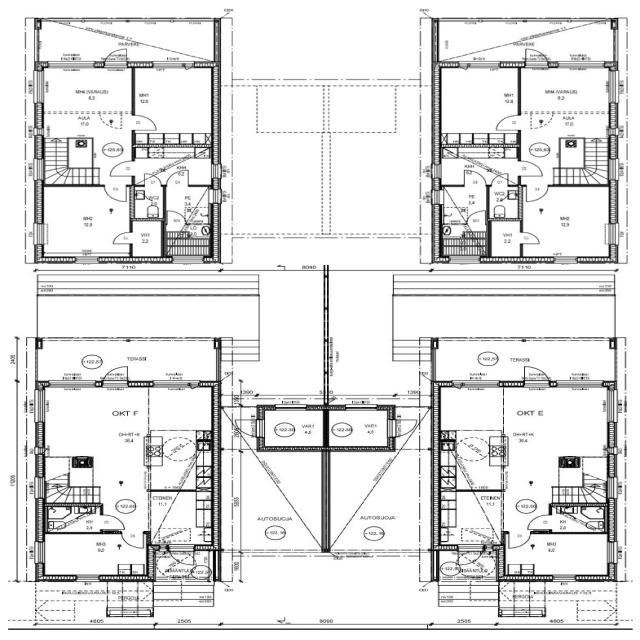door: (100, 218, 135, 248), (456, 545, 484, 568), (521, 46, 549, 68), (167, 544, 195, 566), (96, 512, 126, 532), (520, 364, 550, 384), (101, 47, 129, 68), (130, 112, 158, 132), (516, 158, 544, 178), (118, 530, 146, 550), (522, 183, 549, 203), (492, 114, 522, 132), (525, 512, 554, 530), (101, 366, 129, 384), (102, 184, 128, 203), (506, 530, 532, 549), (108, 159, 134, 177), (460, 170, 487, 187), (162, 171, 190, 187), (466, 208, 488, 226), (488, 170, 511, 187), (110, 230, 134, 246), (98, 113, 121, 129), (518, 230, 542, 245), (164, 208, 186, 224), (531, 114, 554, 129), (208, 189, 228, 204), (449, 380, 465, 390), (185, 380, 200, 390)
window: (30, 69, 46, 106), (551, 380, 606, 390), (44, 379, 98, 389), (31, 388, 46, 424), (603, 389, 618, 424), (605, 72, 619, 105), (554, 61, 605, 70), (45, 61, 99, 69), (149, 379, 197, 388), (603, 539, 619, 566), (604, 222, 620, 248), (445, 254, 483, 264), (458, 379, 500, 388), (32, 539, 46, 566), (152, 61, 189, 71), (32, 222, 46, 248), (30, 156, 44, 182), (170, 255, 205, 265), (70, 256, 103, 266), (338, 233, 379, 241), (274, 233, 312, 241), (605, 476, 618, 499), (465, 62, 501, 70), (609, 158, 621, 182), (343, 404, 377, 412), (550, 256, 580, 265), (548, 575, 579, 583), (272, 404, 307, 411), (208, 162, 221, 180), (431, 162, 444, 180), (72, 574, 101, 582), (428, 189, 442, 205), (33, 126, 44, 136)
zone: (39, 387, 170, 459), (485, 386, 613, 456), (36, 185, 134, 259), (520, 185, 614, 261), (133, 66, 214, 147), (436, 68, 519, 144), (504, 531, 612, 579), (38, 532, 148, 579), (39, 66, 133, 114), (144, 430, 212, 492), (517, 70, 611, 114), (438, 433, 505, 491), (146, 490, 213, 544), (438, 492, 504, 544), (436, 146, 520, 185), (130, 147, 213, 186), (436, 386, 502, 431), (326, 408, 393, 449), (130, 185, 202, 221), (260, 408, 324, 448), (555, 457, 608, 503), (41, 461, 96, 504), (164, 184, 211, 228), (39, 112, 112, 139), (440, 186, 488, 224), (43, 504, 102, 532), (550, 504, 606, 533), (164, 225, 212, 258), (440, 224, 488, 256), (130, 220, 163, 259), (489, 220, 520, 258), (130, 185, 164, 219), (488, 186, 521, 220), (459, 168, 494, 187), (177, 222, 209, 238)
